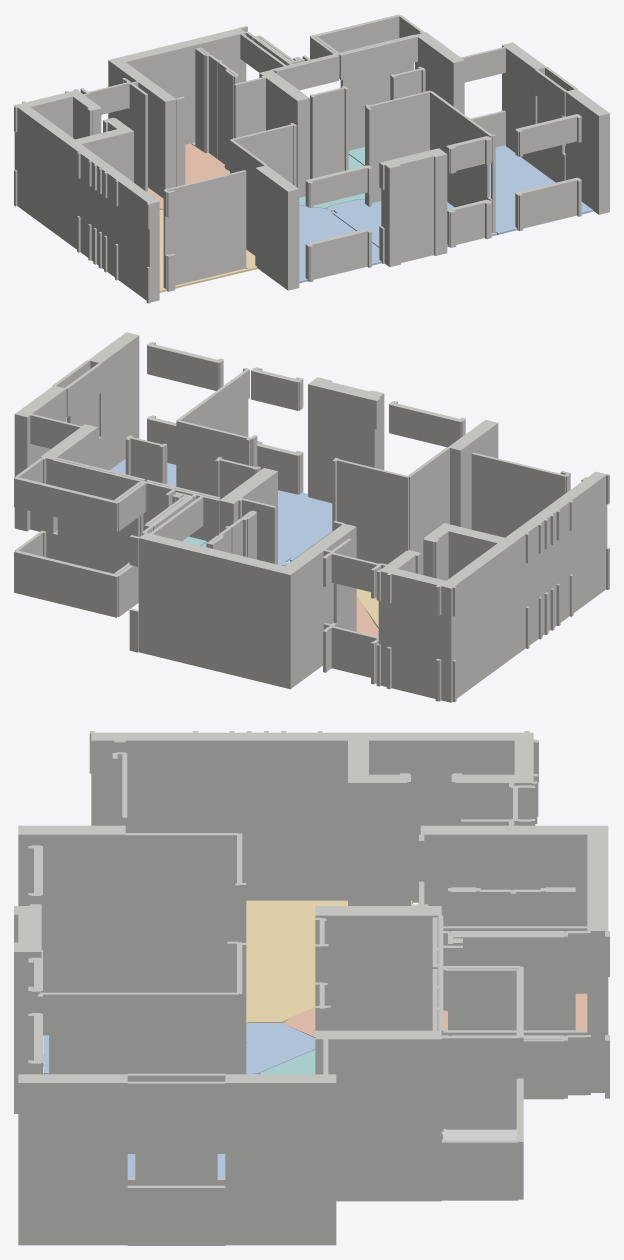
3 renders of one model, top to bottom at view 1: azimuth 30°, elevation 25°; view 2: azimuth 150°, elevation 25°; view 3: azimuth 270°, elevation 25°, orthographic. The views are drawn at different scales.
Parts seen in each view (by area): view 1: walls, room:bedroom:9, room:bedroom:7, room:bedroom:8, room:kitchen:0, room:living:6, room:bath:4; view 2: walls, room:bedroom:8, room:kitchen:0; view 3: walls, room:living:6, room:bedroom:7, room:kitchen:0, room:ledge:3, room:bath:4.
Boxes of the visible parts, <box> form: walls: <box>14,14,609,303</box>; room:bedroom:9: <box>490,145,592,234</box>; room:bedroom:7: <box>299,205,381,283</box>; room:bedroom:8: <box>326,199,496,247</box>; room:kitchen:0: <box>147,143,229,209</box>; room:living:6: <box>159,209,257,292</box>; room:bath:4: <box>299,155,364,208</box>; walls: <box>14,332,609,702</box>; room:bedroom:8: <box>278,490,332,566</box>; room:kitchen:0: <box>356,595,378,636</box>; walls: <box>14,731,609,1245</box>; room:living:6: <box>246,900,418,1023</box>; room:bedroom:7: <box>43,1023,315,1074</box>; room:kitchen:0: <box>283,993,587,1037</box>; room:ledge:3: <box>443,1127,516,1140</box>; room:bath:4: <box>259,1050,315,1074</box>.
Bounding box in the file's own units: 13.07 × 2.8 × 9.33.
